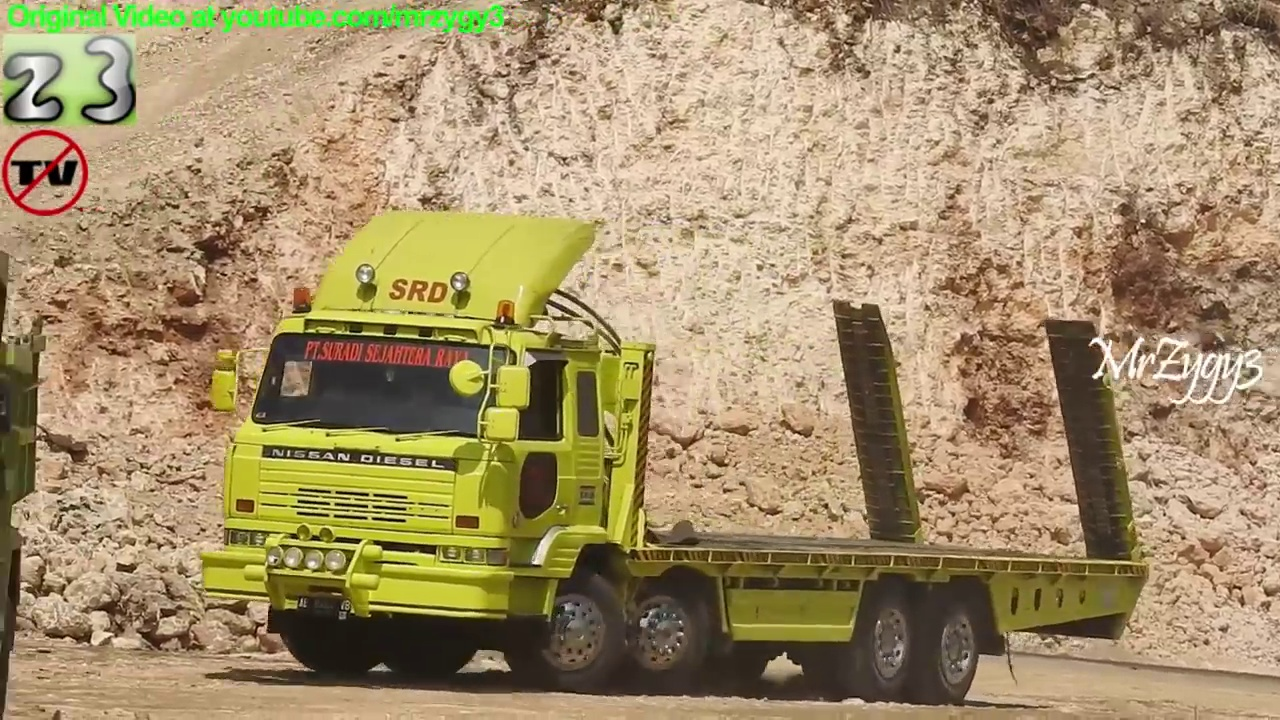truck: (196, 203, 1160, 707)
